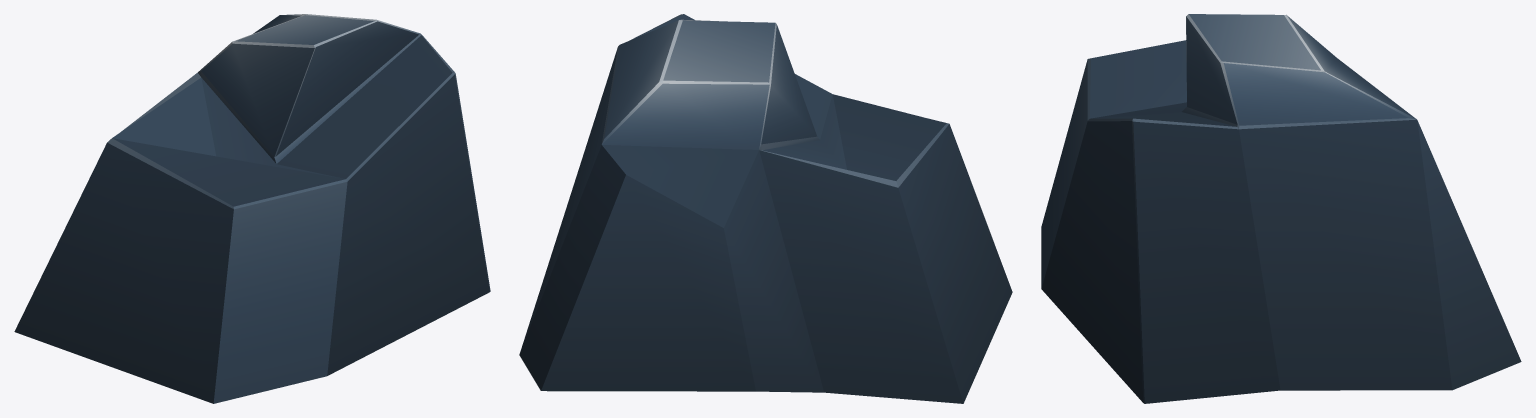
File: Rock_10.fbx
3 renders of one model, left to right at view 1: azimuth 30°, elevation 25°; view 2: azimuth 150°, elevation 25°; view 3: azimuth 270°, elevation 25°, orthographic. The views are drawn at different scales.
Visible parts, largest first — view 1: Rock_10; view 2: Rock_10; view 3: Rock_10.
Part boxes in pixels (x1=…): Rock_10: x1=14, y1=14, x2=490, y2=403; Rock_10: x1=519, y1=14, x2=1012, y2=403; Rock_10: x1=1041, y1=14, x2=1521, y2=403.
Size of the model in its own units: 429 by 278 by 399.
